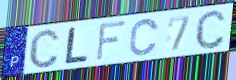7: (167, 14, 191, 52)
C: (27, 27, 61, 70), (194, 8, 227, 51), (128, 17, 161, 57)
F: (95, 19, 128, 63)
L: (63, 26, 90, 65)
